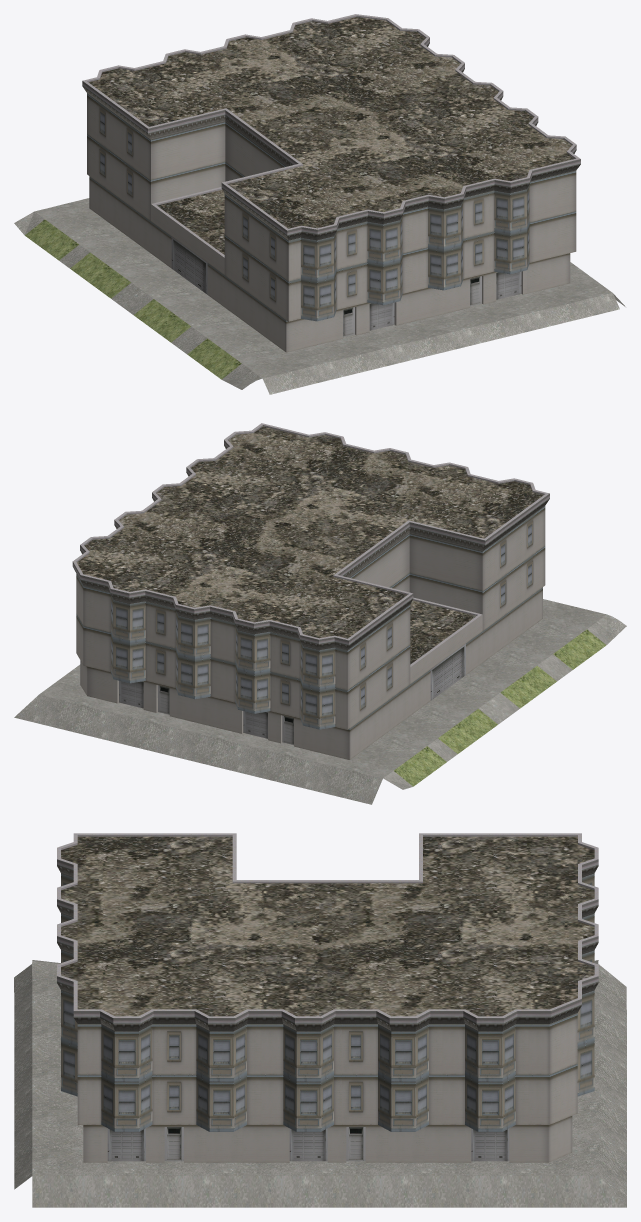
Rendered from vicstuff_sfe50.obj.
3 renders of one model, top to bottom at view 1: azimuth 30°, elevation 25°; view 2: azimuth 150°, elevation 25°; view 3: azimuth 270°, elevation 25°, orthographic. The views are drawn at different scales.
Parts seen in each view (by area): view 1: vicstuff_sfe50; view 2: vicstuff_sfe50; view 3: vicstuff_sfe50.
Part boxes in pixels (box(x1,y1,x2,y2)): vicstuff_sfe50: box(14, 14, 625, 394); vicstuff_sfe50: box(14, 423, 626, 804); vicstuff_sfe50: box(14, 833, 626, 1207).
Bounding box in the file's own units: 55.63 × 19.9 × 61.82.
11 materials, 11 textured.
